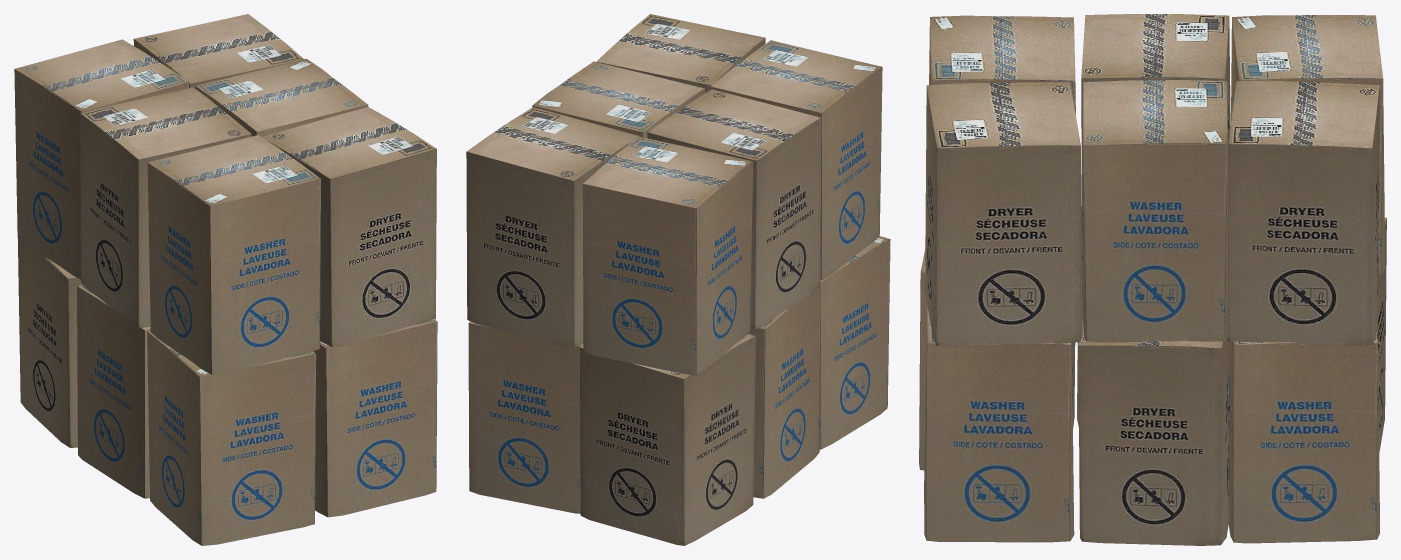
The model's file is box_stack1.glb.
3 renders of one model, left to right at view 1: azimuth 30°, elevation 25°; view 2: azimuth 150°, elevation 25°; view 3: azimuth 270°, elevation 25°, orthographic. The views are drawn at different scales.
Parts seen in each view (by area): view 1: 0_washer_box; view 2: 0_washer_box; view 3: 0_washer_box.
Part boxes in pixels (x1,y1,x2,y2): 0_washer_box: (14,14,437,545); 0_washer_box: (466,14,890,545); 0_washer_box: (919,14,1386,545).
Bounding box in the file's own units: 2.34 × 3.12 × 3.33.
1 material, 1 textured.
